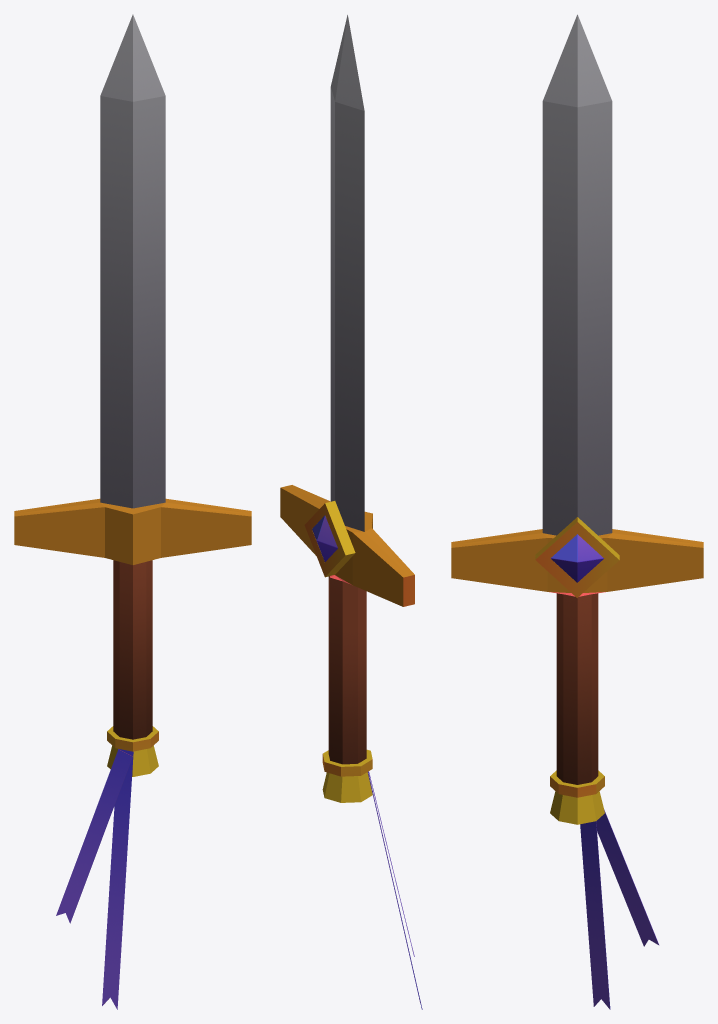
Rendered from Sword.fbx.
The picture shows the model from 3 angles, left to right: view 1: azimuth 90°, elevation 25°; view 2: azimuth 210°, elevation 25°; view 3: azimuth 270°, elevation 25°; orthographic projection. The views are drawn at different scales.
Visible parts, largest first — view 1: pCube6; view 2: pCube6; view 3: pCube6.
Boxes of the visible parts, x1=… form: pCube6: x1=14, y1=14, x2=251, y2=1009; pCube6: x1=280, y1=15, x2=422, y2=1009; pCube6: x1=451, y1=14, x2=703, y2=1009.
Size of the model in its own units: 9.52 by 94.96 by 21.18.
